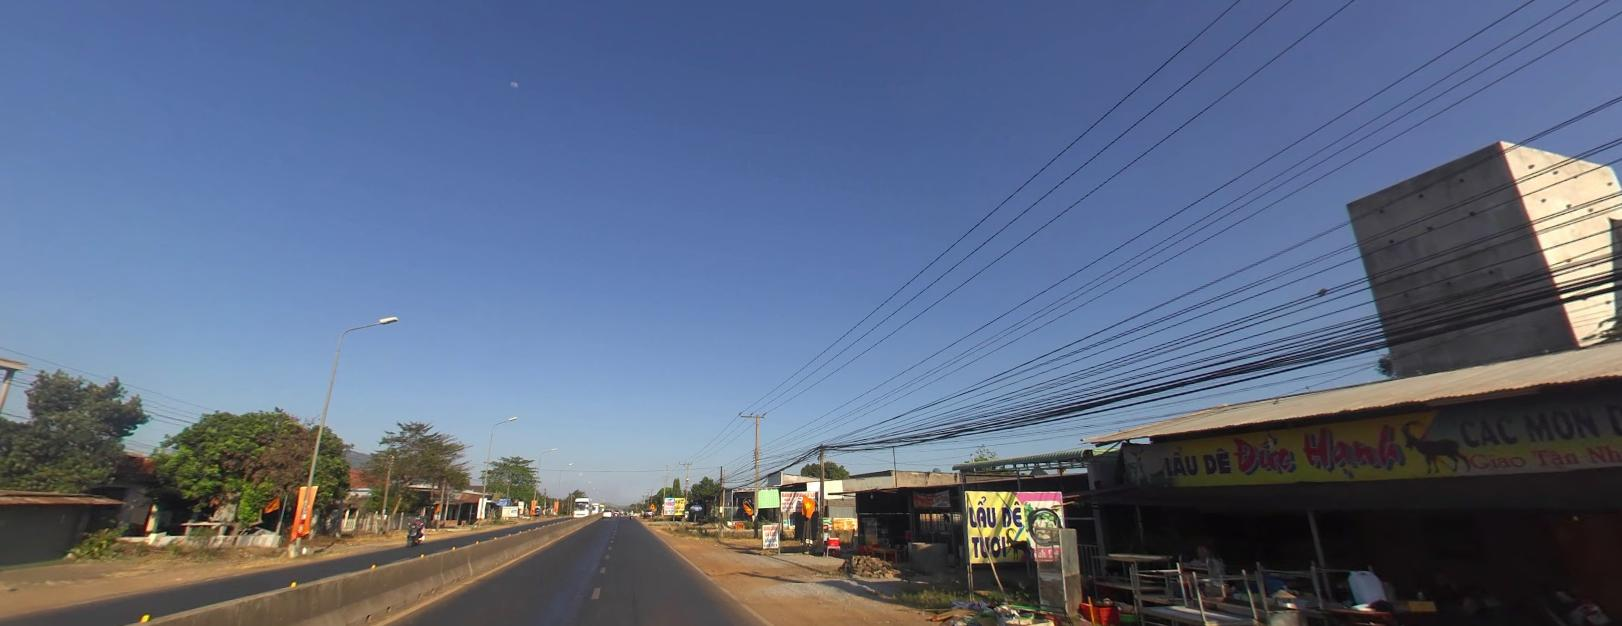Nguy hiem: (648, 502, 655, 508)
